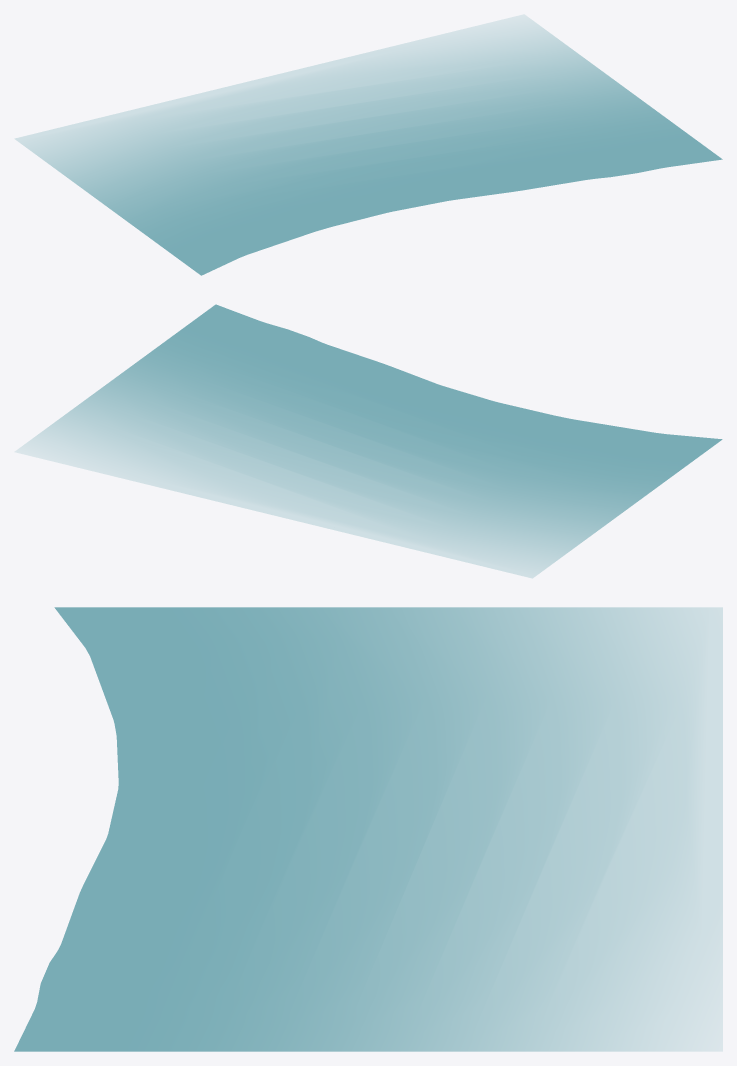
3 renders of one model, top to bottom at view 1: azimuth 30°, elevation 25°; view 2: azimuth 150°, elevation 25°; view 3: azimuth 270°, elevation 25°, orthographic. The views are drawn at different scales.
Visible parts, largest first — view 1: city; view 2: city; view 3: city.
Part boxes in pixels (x1,y1,x2,y2): city: (15, 15, 722, 275); city: (15, 304, 722, 578); city: (14, 607, 722, 1051).
Bounding box in the file's own units: 500 × 0 × 337.
